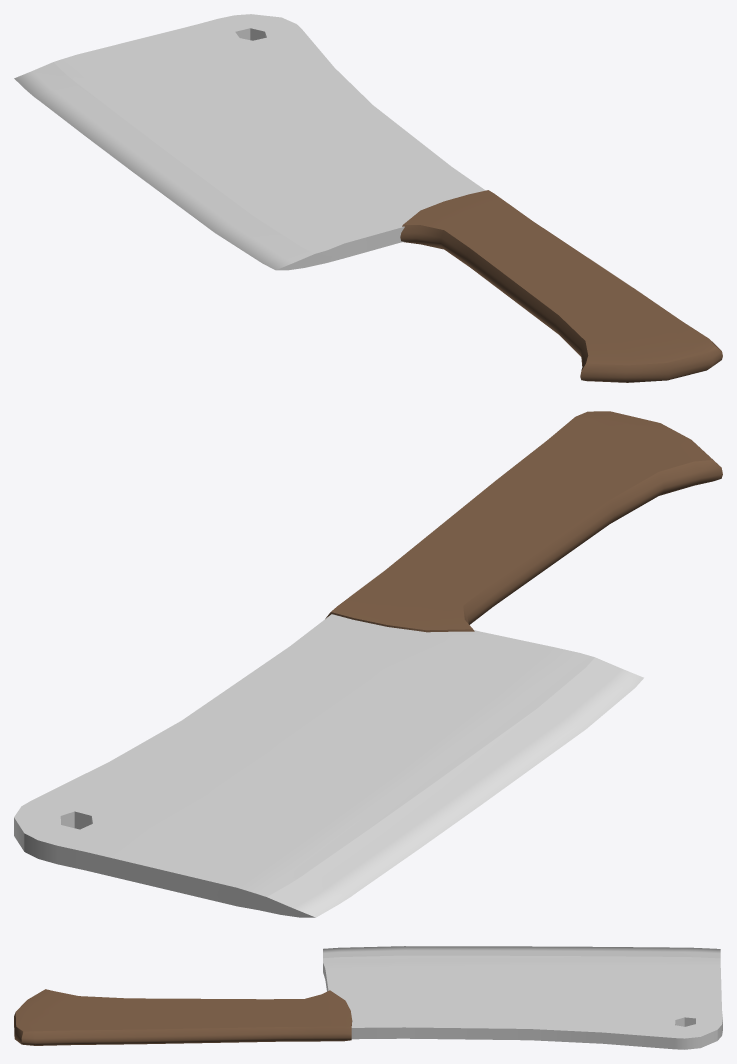
Rendered from Model_Knife.fbx.
3 renders of one model, top to bottom at view 1: azimuth 30°, elevation 25°; view 2: azimuth 150°, elevation 25°; view 3: azimuth 270°, elevation 25°, orthographic. The views are drawn at different scales.
Parts seen in each view (by area): view 1: pCube1, pCube2; view 2: pCube1, pCube2; view 3: pCube1, pCube2.
Boxes of the visible parts, x1,y1,x2,y2 form: pCube1: (14,14,485,270); pCube2: (400,190,722,382); pCube1: (14,614,643,917); pCube2: (325,411,722,632); pCube1: (323,946,722,1049); pCube2: (14,989,352,1045).
Size of the model in its own units: 1.15 by 0.08 by 3.5.
